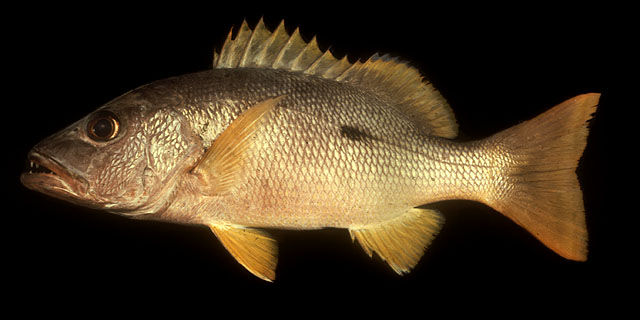fish: (20, 19, 600, 284)
